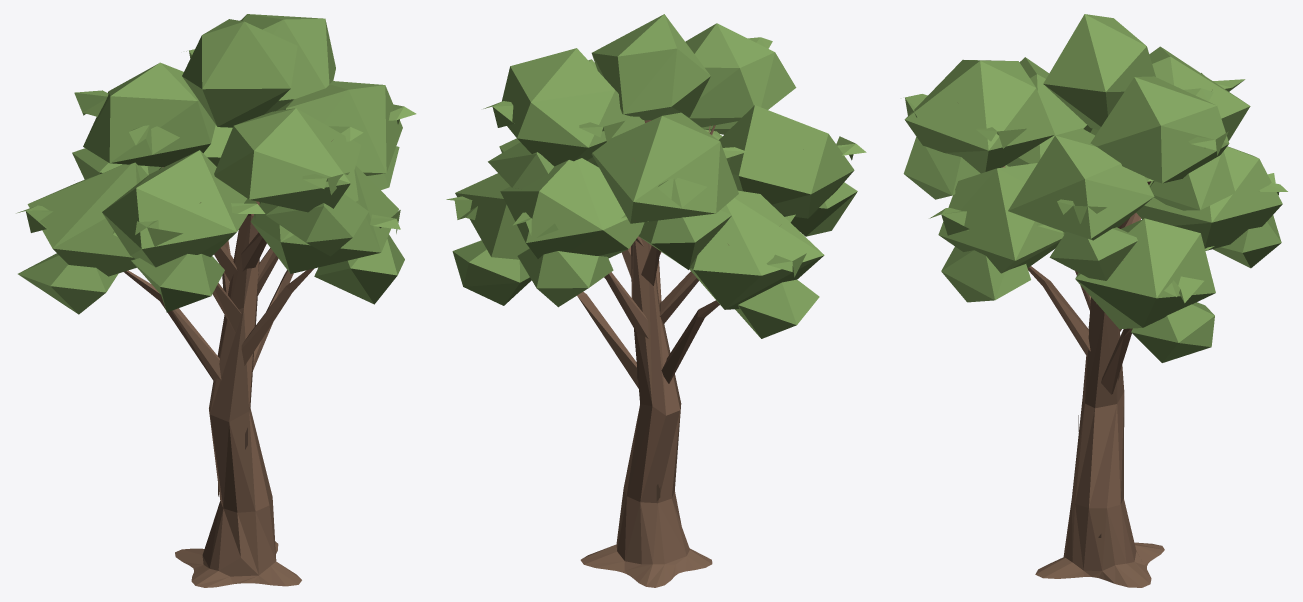
The model's file is maple_spring.glb.
The picture shows the model from 3 angles, left to right: view 1: azimuth 30°, elevation 25°; view 2: azimuth 150°, elevation 25°; view 3: azimuth 270°, elevation 25°; orthographic projection. The views are drawn at different scales.
Parts seen in each view (by area): view 1: leaves, branches; view 2: leaves, branches; view 3: leaves, branches.
Boxes of the visible parts, bbox=[...] form: leaves: bbox=[16, 14, 416, 314]; branches: bbox=[124, 140, 332, 587]; leaves: bbox=[446, 14, 866, 338]; branches: bbox=[577, 120, 728, 587]; leaves: bbox=[903, 14, 1287, 362]; branches: bbox=[1002, 166, 1164, 587].
Bounding box in the file's own units: 3.2 × 4.69 × 3.06.
